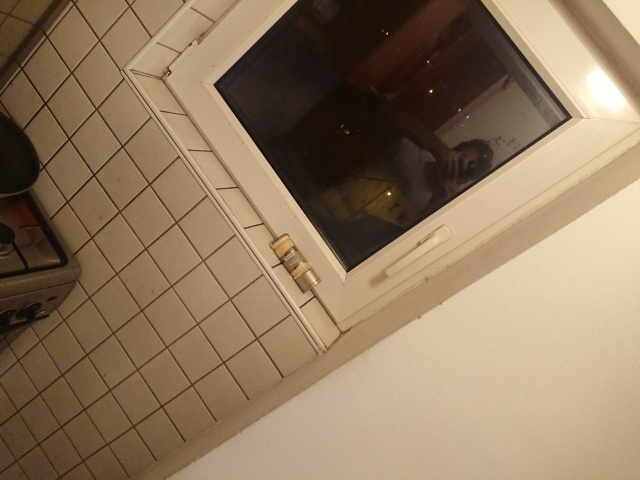Kotanyi Garlic Granules 70g: (268, 232, 324, 296)
